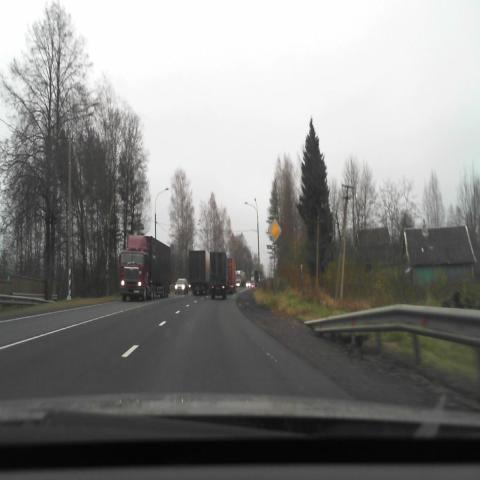2_1: (268, 217, 282, 243)
